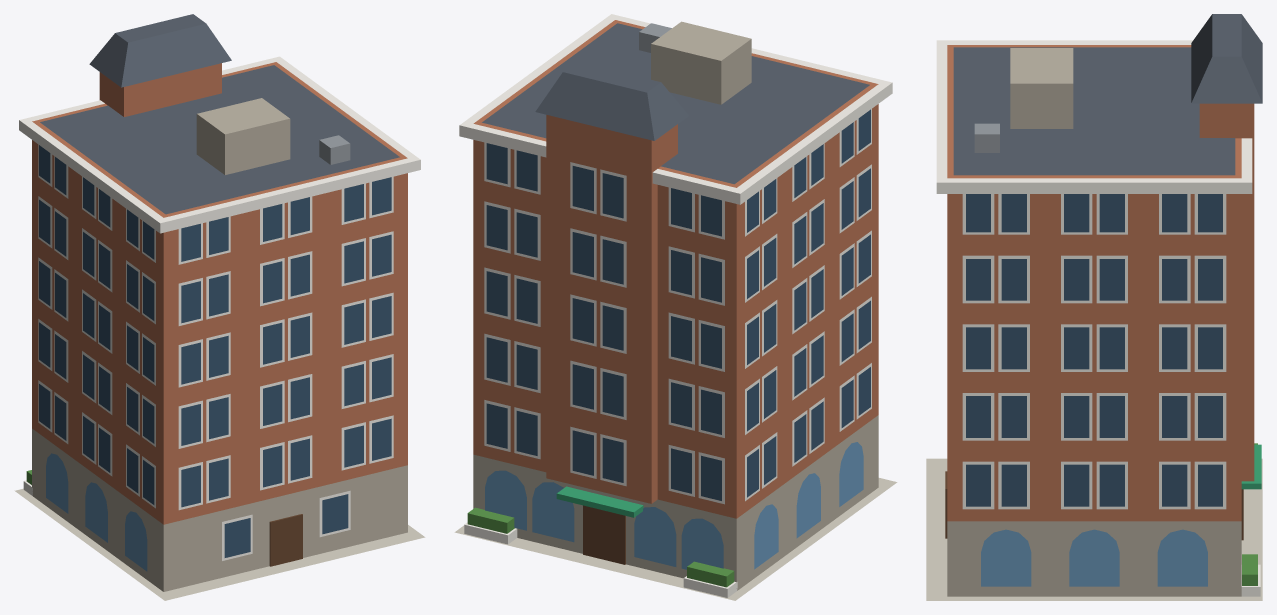
3 views of the same model, side by side, from view 1: azimuth 30°, elevation 25°; view 2: azimuth 150°, elevation 25°; view 3: azimuth 270°, elevation 25° (orthographic). The views are drawn at different scales.
Visible parts, largest first — view 1: upper, roof (×2), window_glass (×32), ground_floor, cornice (×3), plant_room, plaza, bay, storefront (×3), door, ac_unit; view 2: upper, bay (×2), window_glass (×30), roof (×2), ground_floor, storefront (×7), cornice (×5), plant_room, plaza, door, hedge (×2), canopy (+1 smaller); view 3: upper, roof (×2), window_glass (×30), ground_floor, window_frame (×24), cornice (×4), storefront (×3), bay (×2), plaza, plant_room, ac_unit, hedge (+1 smaller).
Part boxes in pixels (<box>): upper: <box>32,62,407,524</box>; roof (×2): <box>40,14,399,214</box>; window_glass (×32): <box>181,177,391,557</box>; ground_floor: <box>32,428,407,591</box>; cornice (×3): <box>24,60,420,233</box>; plant_room: <box>196,98,290,174</box>; plaza: <box>14,488,425,600</box>; bay: <box>105,63,221,116</box>; storefront (×3): <box>46,453,147,571</box>; door: <box>269,514,302,566</box>; ac_unit: <box>319,135,350,164</box>; upper: <box>473,20,878,518</box>; bay (×2): <box>546,115,677,503</box>; window_glass (×30): <box>486,143,721,500</box>; roof (×2): <box>482,23,869,184</box>; ground_floor: <box>473,415,878,590</box>; storefront (×7): <box>485,442,863,569</box>; cornice (×5): <box>459,14,892,204</box>; plant_room: <box>651,21,751,104</box>; plaza: <box>454,478,897,600</box>; door: <box>583,505,625,564</box>; hedge (×2): <box>467,507,734,587</box>; canopy: <box>556,486,643,517</box>; upper: <box>947,45,1241,521</box>; roof (×2): <box>953,14,1262,175</box>; window_glass (×30): <box>966,194,1222,506</box>; ground_floor: <box>947,521,1241,596</box>; window_frame (×24): <box>962,255,1226,509</box>; cornice (×4): <box>936,40,1252,193</box>; storefront (×3): <box>981,529,1207,586</box>; bay (×2): <box>1199,103,1254,481</box>; plaza: <box>926,458,1262,600</box>; plant_room: <box>1010,48,1073,128</box>; ac_unit: <box>974,123,999,152</box>; hedge: <box>1242,554,1257,585</box>.
Bounding box in the file's own units: 16 × 26 × 16.
